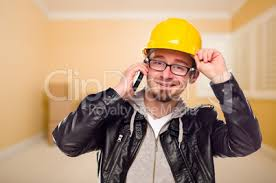Person_wearing_helmet: (134, 14, 207, 80)
